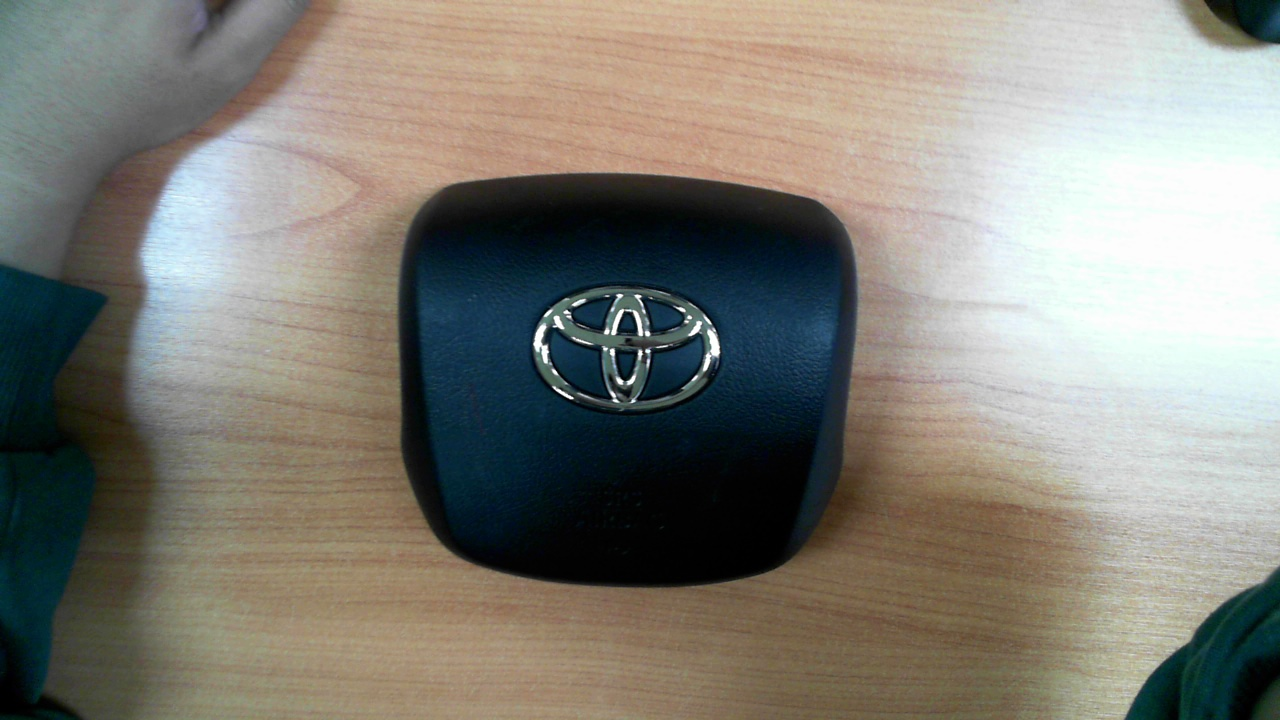Airbag: (395, 171, 860, 590)
Toyota: (533, 285, 722, 412)
